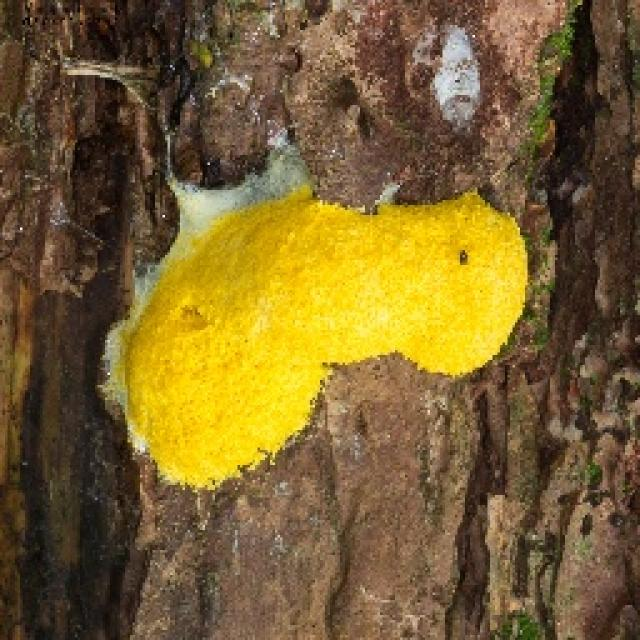Dog_vomit_slime_mold: (82, 137, 534, 492)
